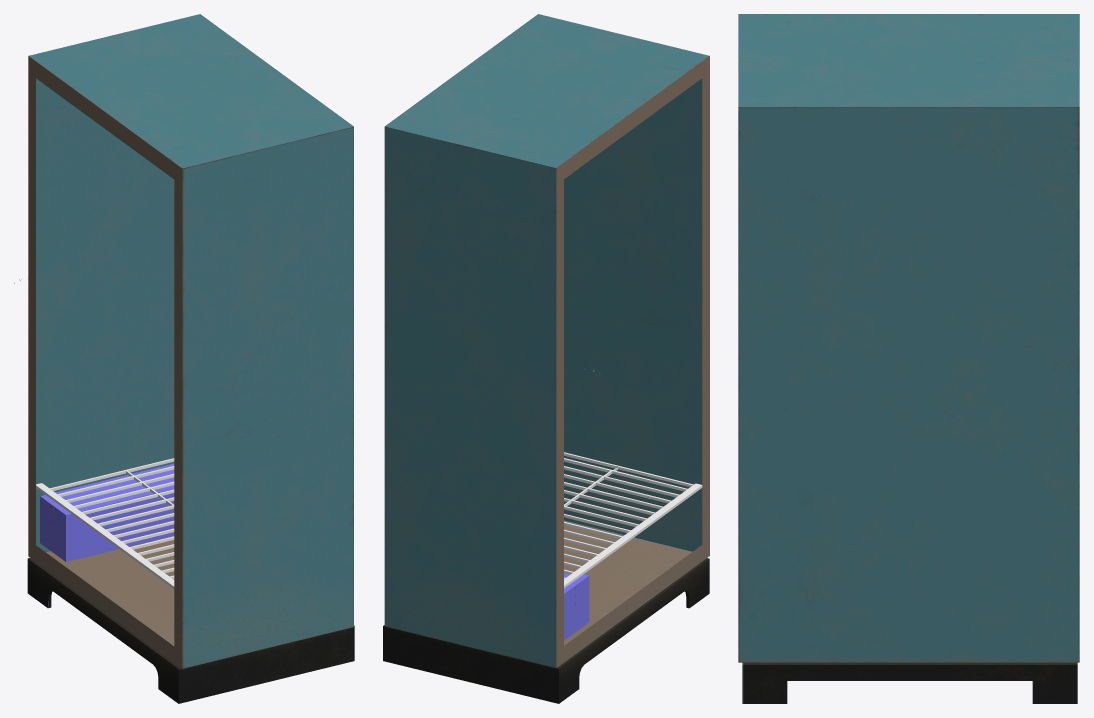
The picture shows the model from 3 angles, left to right: view 1: azimuth 30°, elevation 25°; view 2: azimuth 150°, elevation 25°; view 3: azimuth 270°, elevation 25°; orthographic projection. The views are drawn at different scales.
Visible parts, largest first — view 1: pCube211, square, Box033_Chrome_0.001; view 2: pCube211, Box033_Chrome_0.001, square; view 3: pCube211.
Boxes of the visible parts, <box> form: pCube211: <box>14,14,354,703</box>; square: <box>40,463,174,561</box>; Box033_Chrome_0.001: <box>36,458,174,588</box>; pCube211: <box>383,14,709,703</box>; Box033_Chrome_0.001: <box>564,452,702,588</box>; square: <box>564,569,589,640</box>; pCube211: <box>738,14,1079,703</box>.
Size of the model in its own units: 54.32 by 137 by 71.18.
3 materials, 2 textured.
